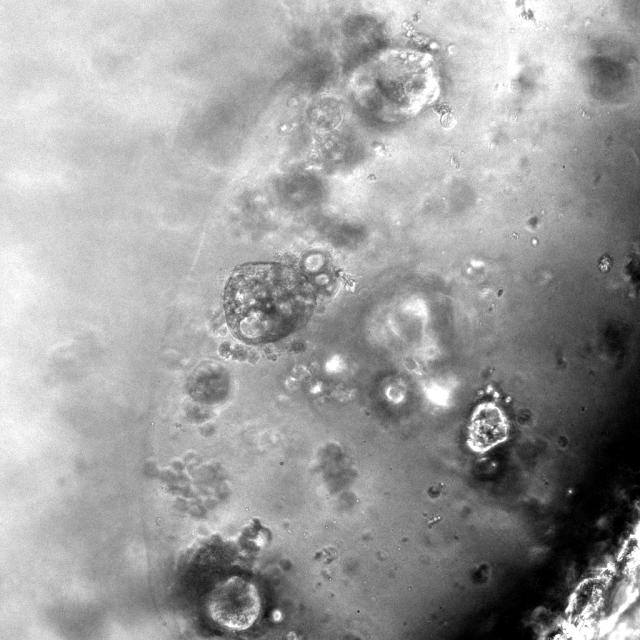organoid: (174, 518, 291, 637), (219, 249, 337, 360), (349, 21, 457, 130), (146, 451, 230, 517), (464, 383, 517, 477), (184, 360, 230, 436), (306, 93, 342, 134)
